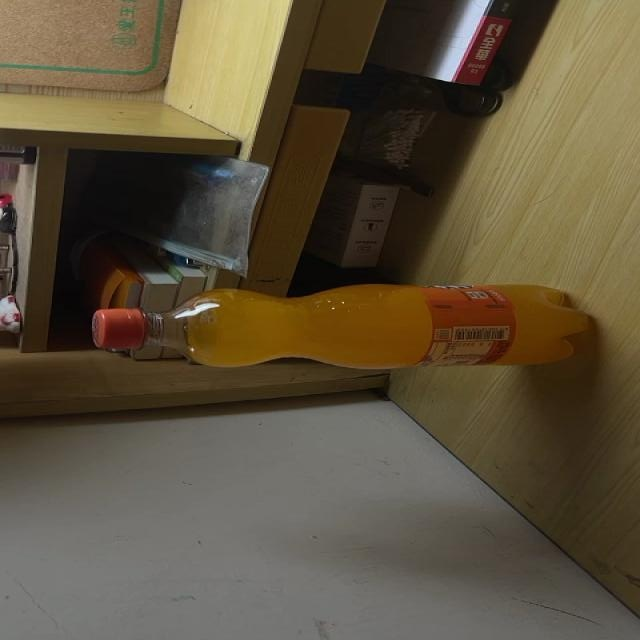Fanta: (91, 282, 592, 368)
